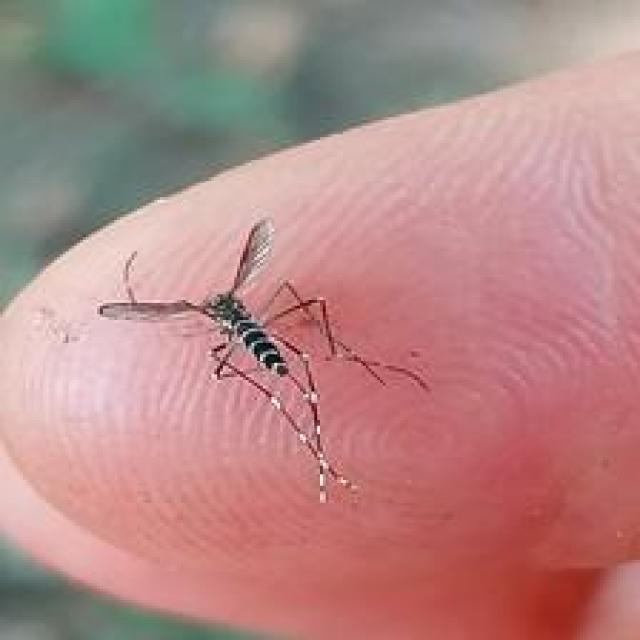Aedes albopictus: (97, 214, 432, 506)
